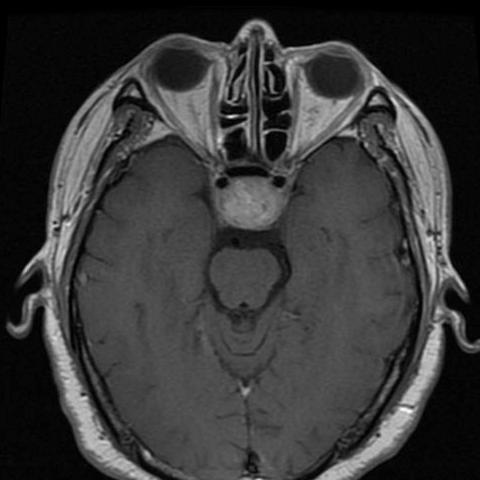Tumour-Pituitary: (208, 173, 299, 239)
